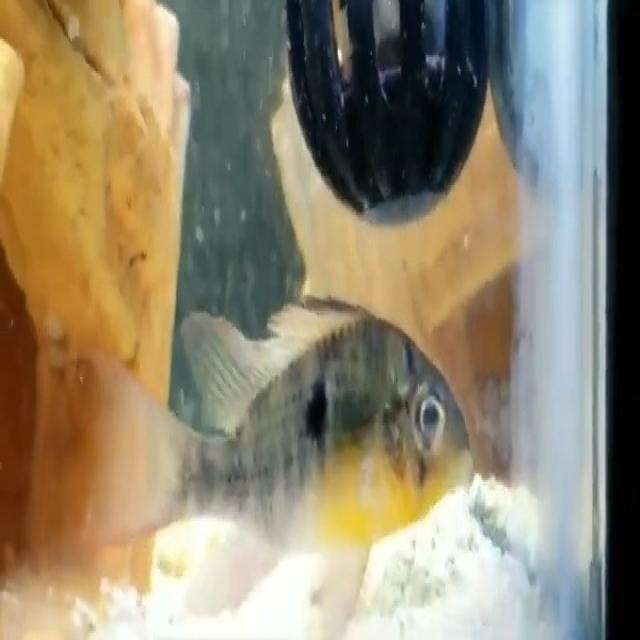fish: (90, 284, 480, 640)
